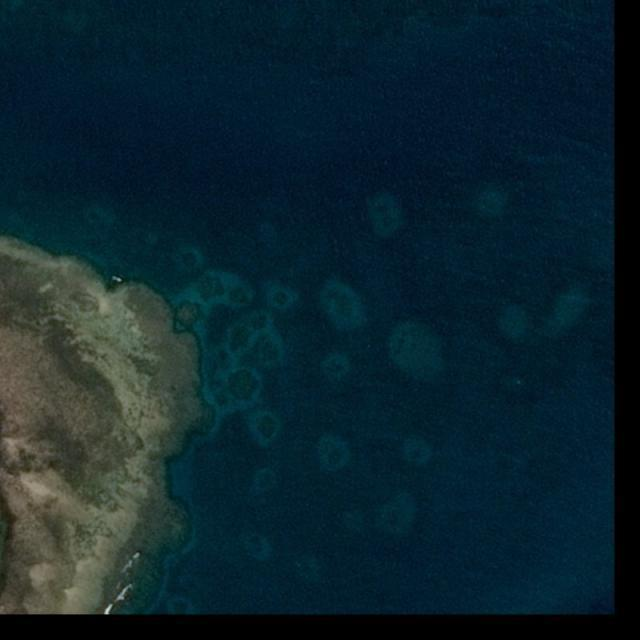ship: (112, 275, 123, 283)
